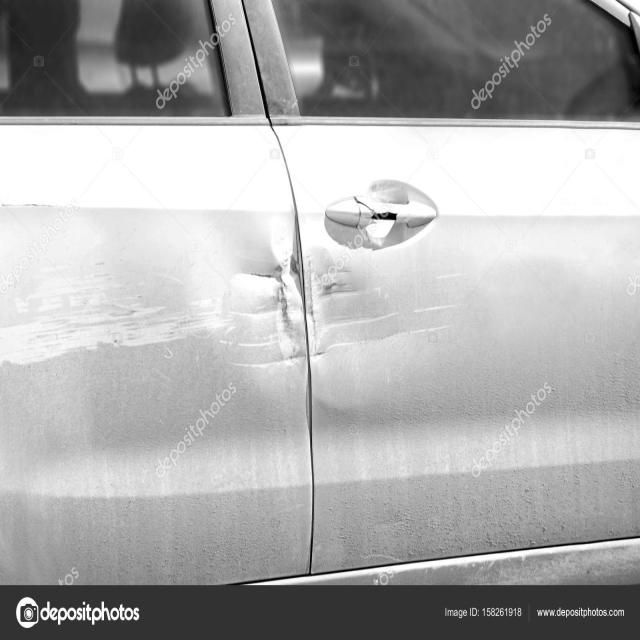dent: (186, 187, 419, 437)
scratch: (0, 195, 476, 372)
